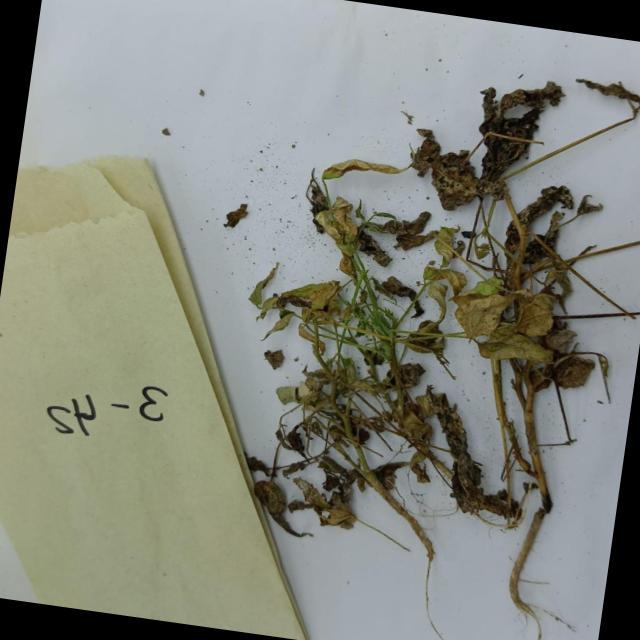Root: (496, 561, 561, 640), (406, 513, 446, 583)
Stem: (352, 293, 420, 371), (510, 404, 558, 505), (509, 485, 568, 563), (298, 319, 355, 399), (478, 360, 510, 480), (320, 389, 368, 468), (342, 256, 385, 344)
rooten_leaf: (478, 74, 566, 191), (457, 275, 561, 365), (491, 174, 582, 269), (404, 384, 464, 512), (407, 127, 488, 214), (514, 336, 610, 404), (440, 430, 490, 520), (320, 148, 414, 192), (266, 270, 341, 316), (306, 193, 362, 250), (290, 488, 354, 536), (250, 468, 298, 526), (450, 484, 522, 522), (571, 72, 640, 111), (376, 354, 427, 405), (424, 221, 472, 270), (246, 259, 284, 316), (300, 177, 332, 240), (266, 307, 302, 352), (271, 427, 307, 470), (392, 206, 432, 239), (391, 226, 437, 254), (314, 458, 350, 490), (220, 200, 250, 230), (362, 234, 391, 261), (332, 254, 358, 284), (263, 346, 289, 366)
